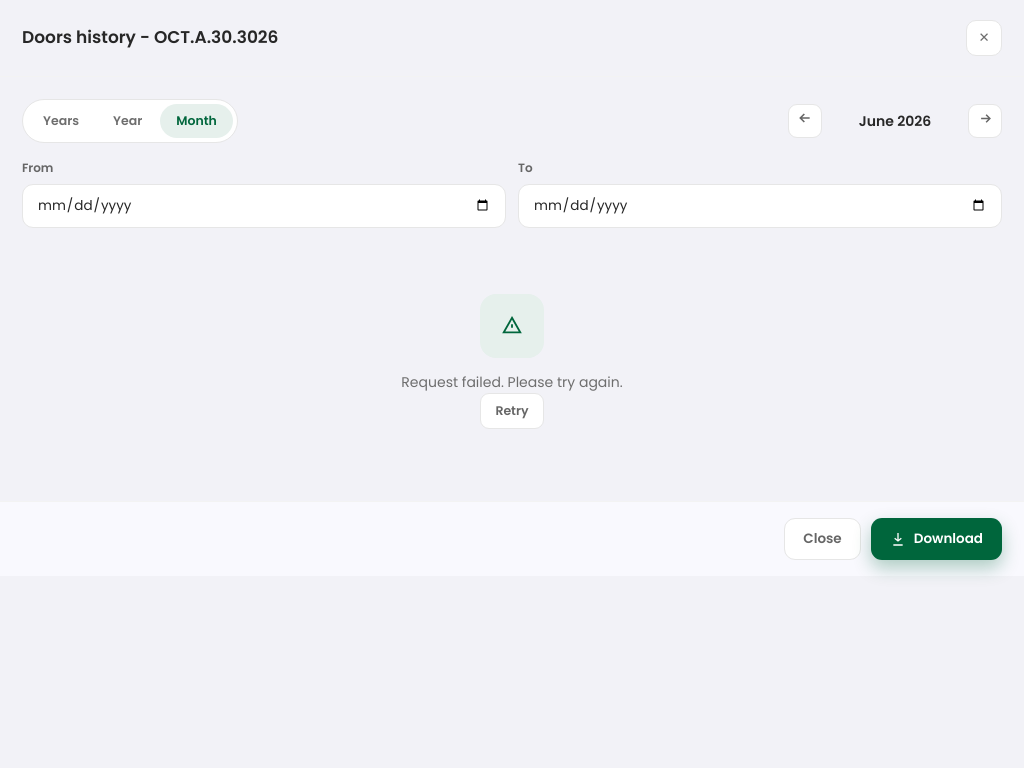
Test: DoorsCalendarModal (real mode) › a rejected getLockHistory stops the skeleton and shows a retry that reloads
Expected: the text "Request failed. Please try again." is shown, [401, 372, 623, 392]
Click the button "Retry" at (512, 411), box [480, 393, 544, 429]
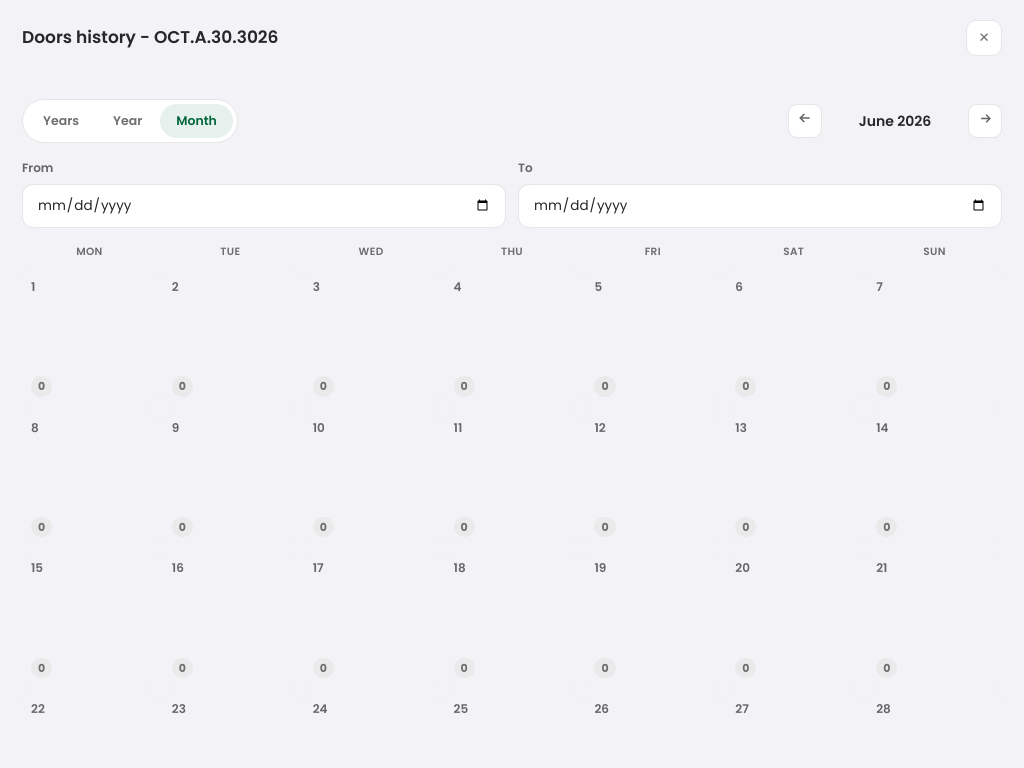
Expected: the text "June 2026" is shown, [859, 110, 931, 130]
Now the text "Request failed. Please try again." is gone
